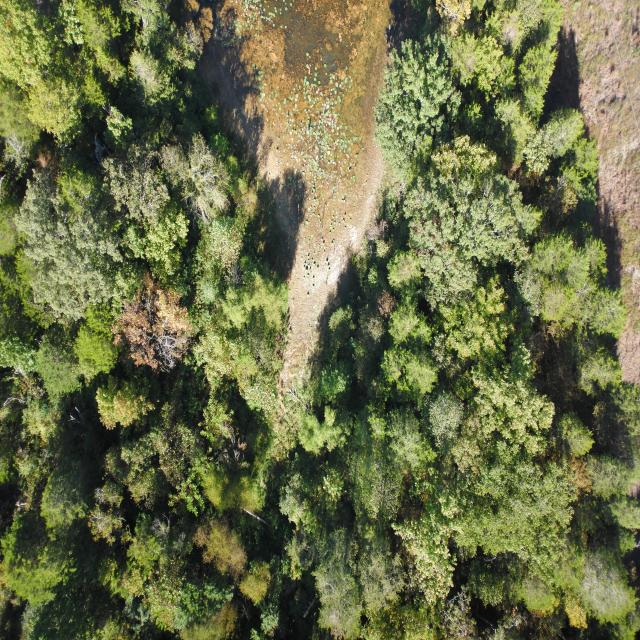Area of Interest: (6, 24, 635, 630)
